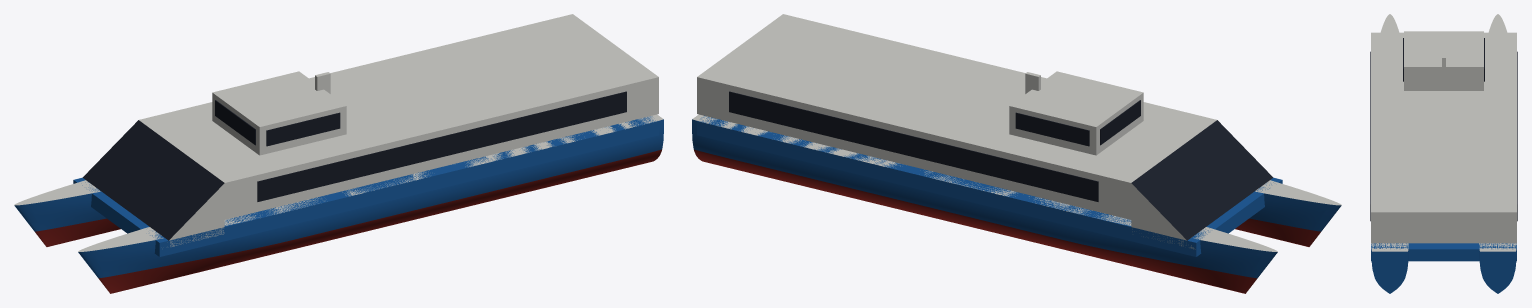
File: fast_ferry.glb
3 views of the same model, side by side, from view 1: azimuth 30°, elevation 25°; view 2: azimuth 150°, elevation 25°; view 3: azimuth 270°, elevation 25° (orthographic). The views are drawn at different scales.
Parts seen in each view (by area): view 1: fast_ferry; view 2: fast_ferry; view 3: fast_ferry.
Boxes of the visible parts, x1,y1,x2,y2 form: fast_ferry: [14, 14, 663, 293]; fast_ferry: [692, 14, 1341, 293]; fast_ferry: [1370, 14, 1517, 293].
Bounding box in the file's own units: 42.4 × 9.62 × 11.12.
